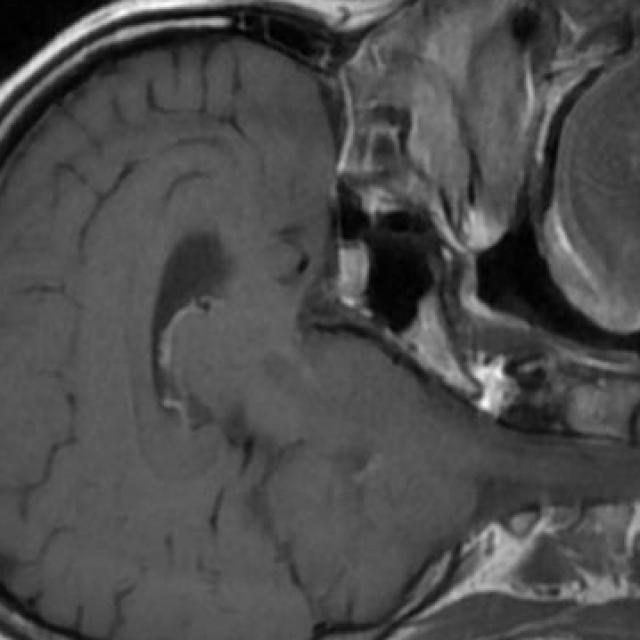pituitary: (333, 242, 371, 303)
